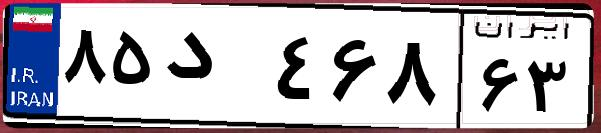3: (525, 38, 570, 115)
4: (270, 28, 330, 110)
5: (110, 28, 158, 98)
6: (330, 28, 385, 110), (475, 38, 525, 113)
8: (385, 28, 445, 110), (57, 26, 110, 100)
د: (158, 20, 270, 120)
